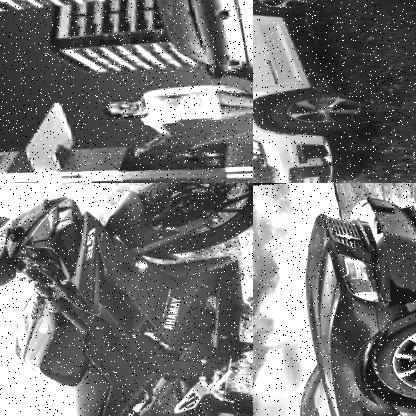bike: (0, 183, 253, 416)
car: (258, 194, 416, 416), (253, 0, 373, 183), (133, 0, 253, 97)
